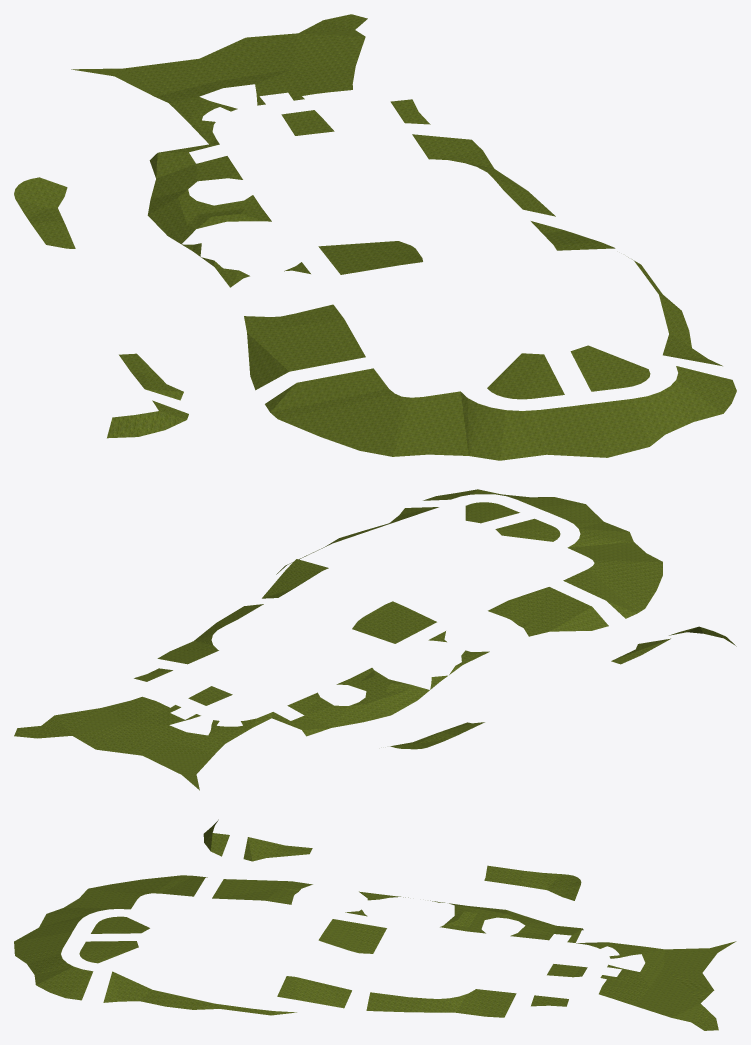
File: grass ground.fbx
3 renders of one model, top to bottom at view 1: azimuth 30°, elevation 25°; view 2: azimuth 150°, elevation 25°; view 3: azimuth 270°, elevation 25°, orthographic. The views are drawn at different scales.
Parts seen in each view (by area): view 1: polySurface5, polySurface2, polySurface1, polySurface10, polySurface7, polySurface4, polySurface14, polySurface3, polySurface8, polySurface9, polySurface11, polySurface6 (+1 smaller); view 2: polySurface2, polySurface5, polySurface1, polySurface14, polySurface7, polySurface6, polySurface4, polySurface3, polySurface10, polySurface8; view 3: polySurface2, polySurface5, polySurface7, polySurface8, polySurface1, polySurface10, polySurface14, polySurface6, polySurface11, polySurface3, polySurface4, polySurface9 (+1 smaller).
Boxes of the visible parts, <box> form: polySurface5: <box>265,366,736,460</box>; polySurface2: <box>71,14,367,287</box>; polySurface1: <box>244,304,365,390</box>; polySurface10: <box>14,177,75,248</box>; polySurface7: <box>412,134,555,216</box>; polySurface4: <box>487,353,564,399</box>; polySurface14: <box>318,241,422,274</box>; polySurface3: <box>570,345,650,391</box>; polySurface8: <box>628,257,722,366</box>; polySurface9: <box>107,400,188,438</box>; polySurface11: <box>119,353,183,400</box>; polySurface6: <box>531,221,615,250</box>; polySurface2: <box>14,650,489,790</box>; polySurface5: <box>423,489,662,618</box>; polySurface1: <box>488,587,608,636</box>; polySurface14: <box>352,601,436,643</box>; polySurface7: <box>157,604,263,664</box>; polySurface6: <box>262,559,328,598</box>; polySurface4: <box>495,518,560,541</box>; polySurface3: <box>465,502,519,523</box>; polySurface10: <box>390,722,484,749</box>; polySurface8: <box>276,507,438,574</box>; polySurface2: <box>359,891,736,1030</box>; polySurface5: <box>14,875,207,1000</box>; polySurface7: <box>366,989,516,1017</box>; polySurface8: <box>103,971,296,1015</box>; polySurface1: <box>212,879,312,904</box>; polySurface10: <box>484,865,581,900</box>; polySurface14: <box>318,919,386,953</box>; polySurface6: <box>277,976,351,1008</box>; polySurface11: <box>243,837,312,861</box>; polySurface3: <box>79,941,138,963</box>; polySurface4: <box>91,916,149,933</box>; polySurface9: <box>203,819,229,856</box>.
Size of the model in its own units: 81856 by 3882 by 121239.
Materials: 1 (1 with a texture image).
